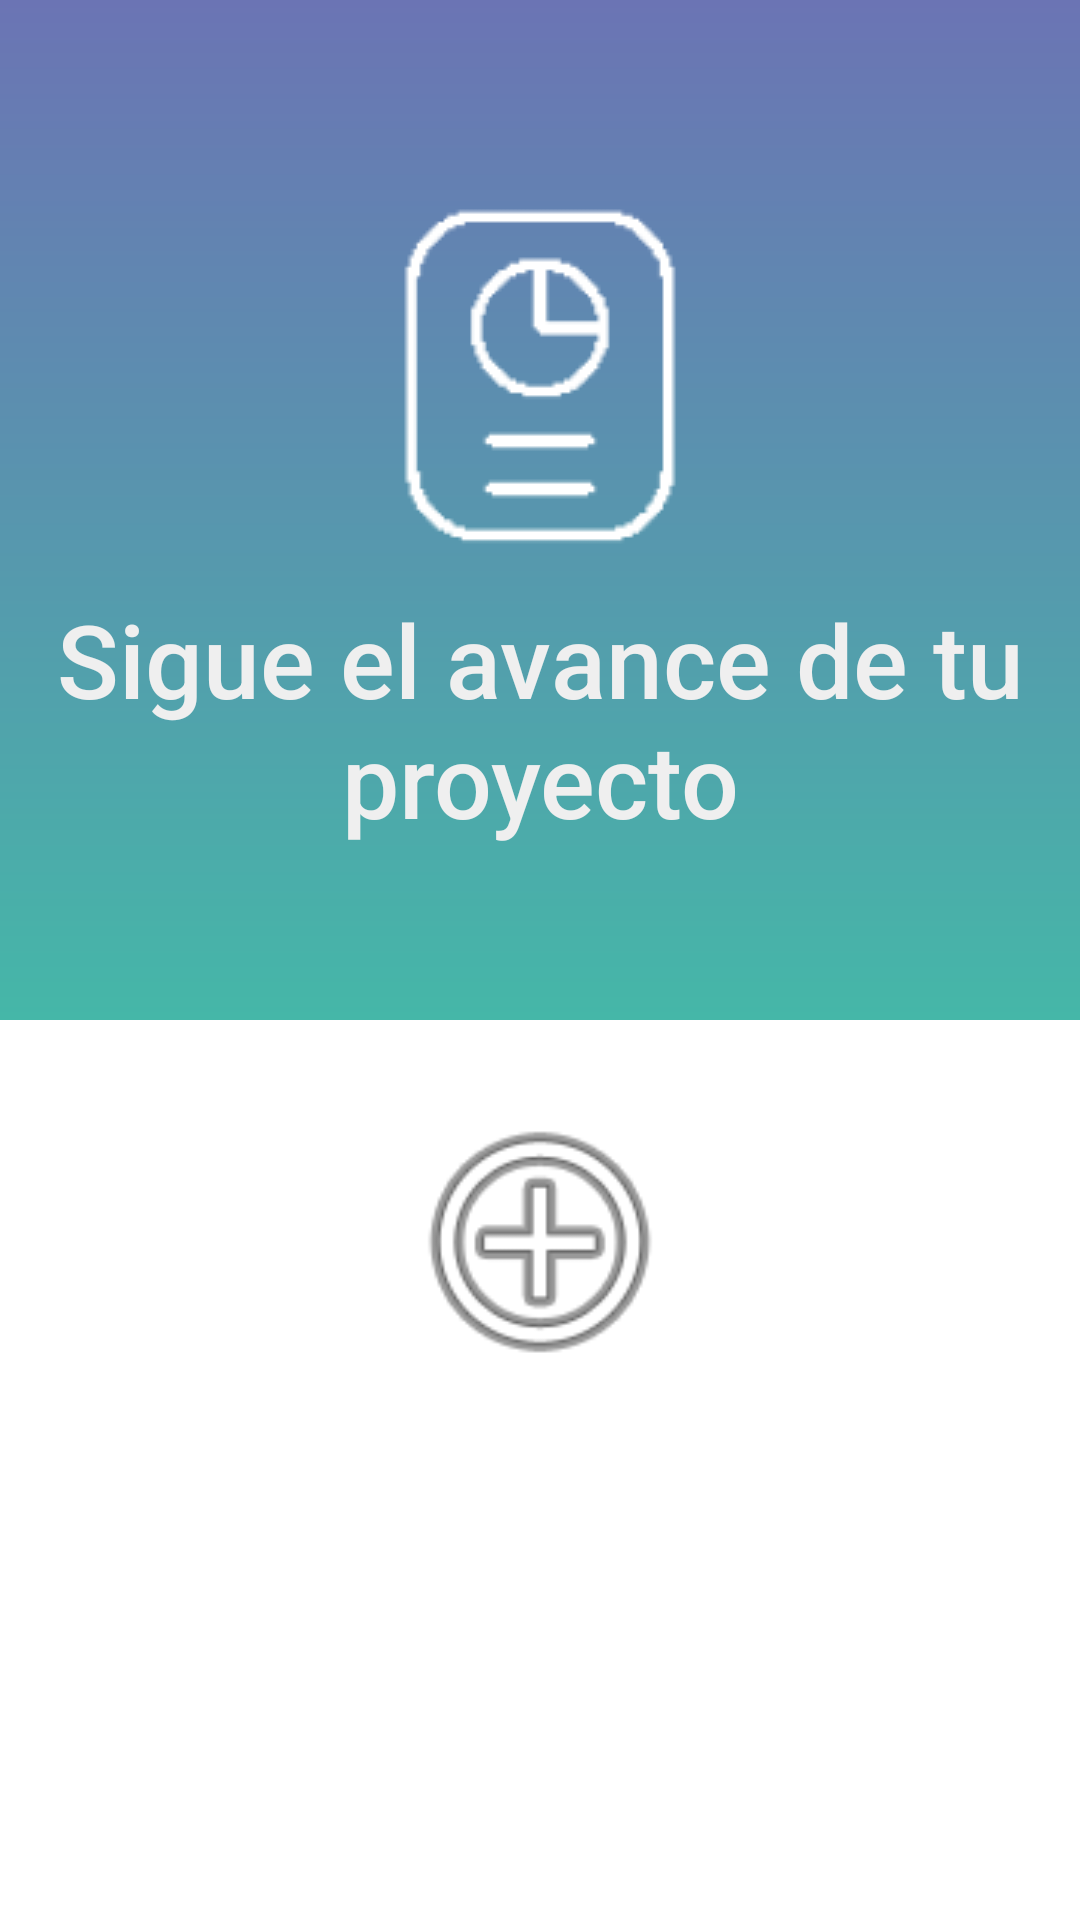

Icons on this 1080w x 1920h Android screen, each with its box as (x1, y1, x2, y2):
add deliverable icon: (429, 1132, 651, 1353)
